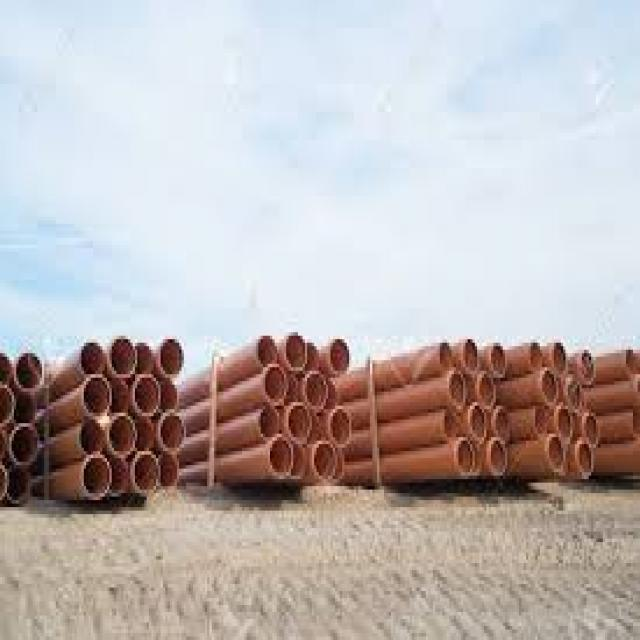pipe: (83, 455, 110, 501), (108, 414, 136, 457), (9, 420, 37, 463), (82, 376, 109, 419), (109, 336, 136, 378), (159, 411, 187, 450), (14, 351, 47, 384), (134, 449, 159, 492), (133, 375, 159, 414), (269, 436, 292, 480), (330, 407, 353, 448), (287, 403, 310, 442), (314, 441, 337, 480), (79, 342, 105, 376), (265, 365, 287, 405), (329, 337, 352, 375), (159, 339, 183, 375), (78, 421, 104, 454), (133, 415, 155, 453), (285, 335, 306, 372), (305, 372, 327, 407), (469, 402, 487, 443), (8, 464, 29, 499), (457, 434, 475, 474), (257, 335, 278, 369), (449, 367, 467, 406), (478, 369, 495, 409), (489, 438, 508, 473), (567, 375, 586, 409), (135, 343, 155, 375), (578, 350, 596, 384), (463, 338, 480, 373), (583, 411, 600, 446), (542, 370, 559, 405), (161, 453, 179, 486), (555, 405, 571, 442), (260, 406, 279, 436), (495, 401, 510, 439), (578, 441, 593, 479), (550, 436, 565, 473), (110, 381, 128, 411), (553, 341, 568, 376), (162, 377, 178, 409), (491, 343, 507, 374), (114, 459, 128, 494), (530, 340, 545, 369), (444, 412, 460, 439), (292, 445, 305, 478), (536, 403, 549, 435), (306, 343, 320, 371), (439, 345, 454, 370)
